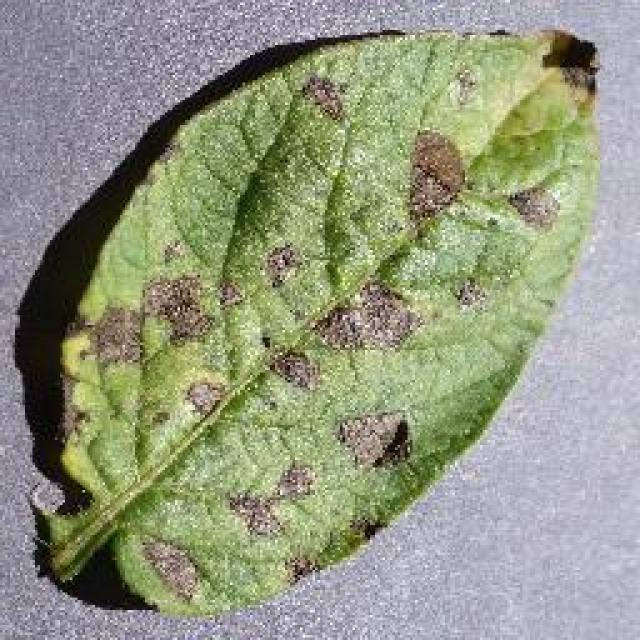early_blight: (30, 22, 605, 622)
